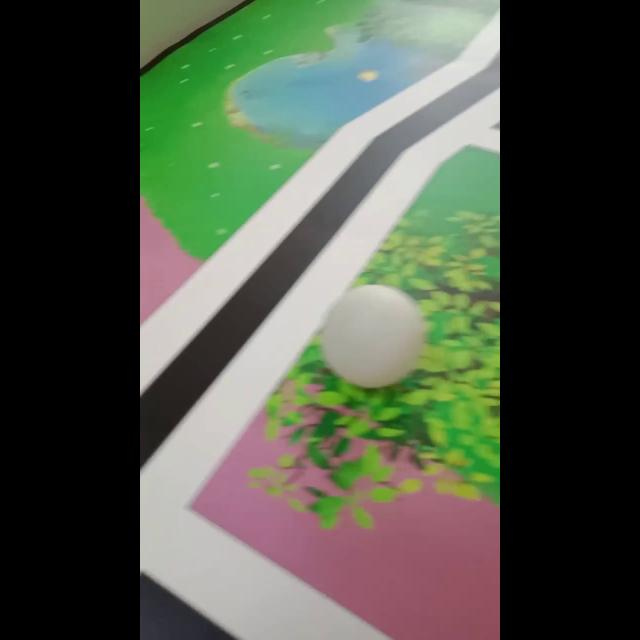white ball: (319, 283, 425, 389)
